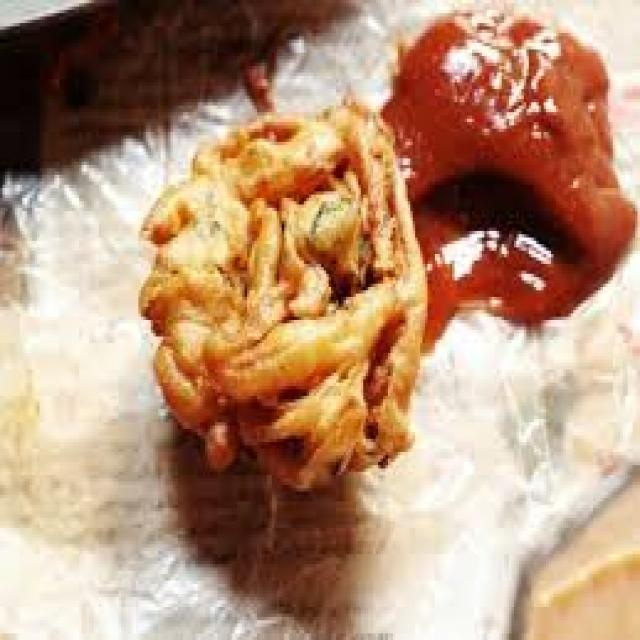BAJI: (153, 117, 421, 482)
